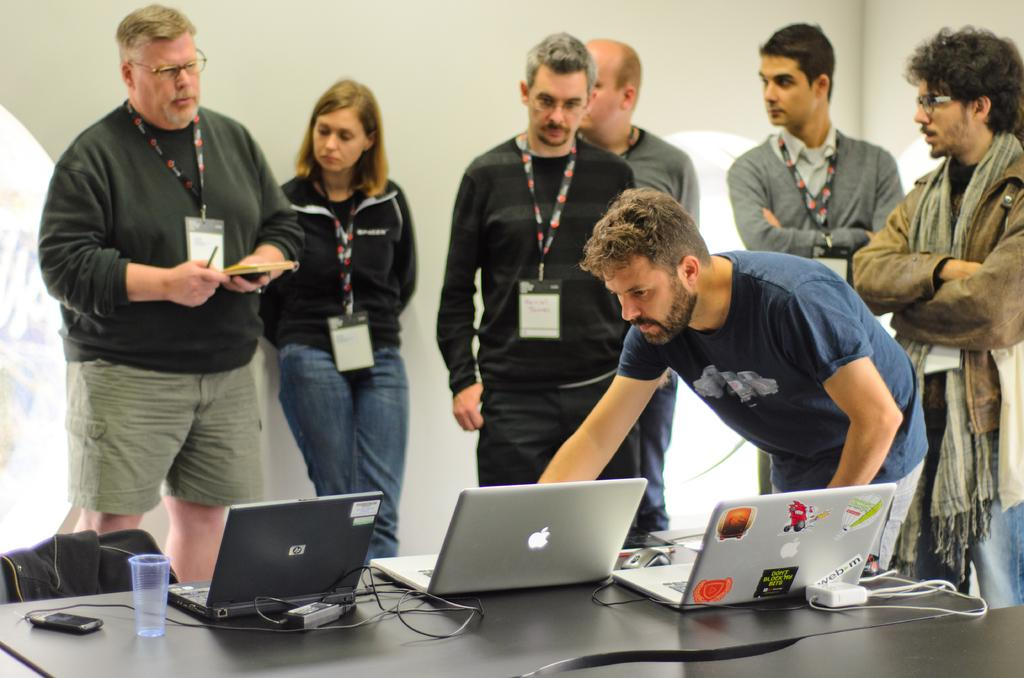Laptop: (614, 485, 897, 609), (168, 492, 383, 621), (419, 489, 642, 608)
